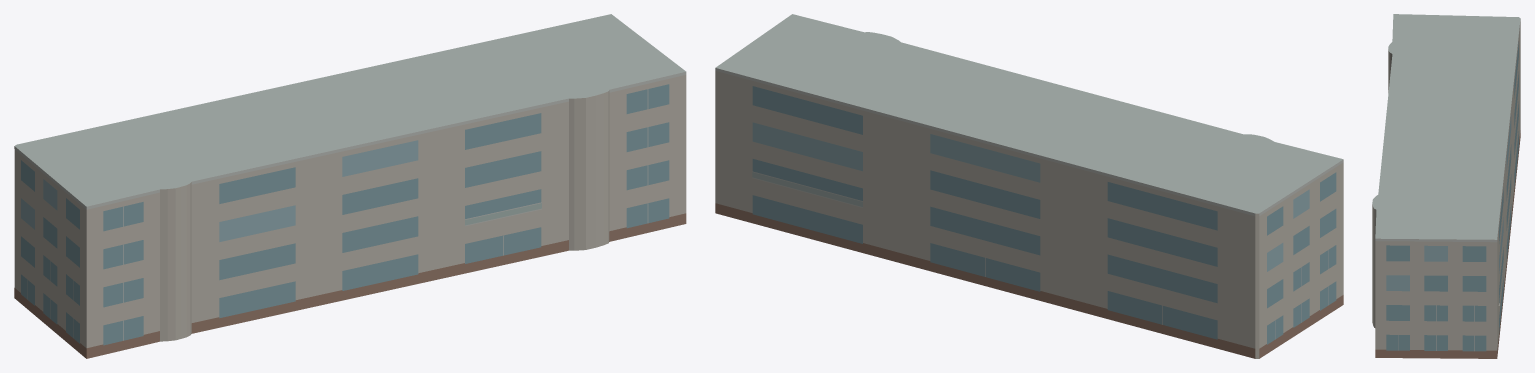
The model's file is survey-upis-32997878.glb.
3 views of the same model, side by side, from view 1: azimuth 30°, elevation 25°; view 2: azimuth 150°, elevation 25°; view 3: azimuth 270°, elevation 25° (orthographic). The views are drawn at different scales.
Visible parts, largest first — view 1: survey-upis-32997878.tmp; view 2: survey-upis-32997878.tmp; view 3: survey-upis-32997878.tmp.
Boxes of the visible parts, x1=… form: survey-upis-32997878.tmp: x1=14, y1=14, x2=686, y2=358; survey-upis-32997878.tmp: x1=715, y1=14, x2=1343, y2=358; survey-upis-32997878.tmp: x1=1372, y1=14, x2=1520, y2=358.
Bounding box in the file's own units: 49.61 × 12.2 × 13.75.
